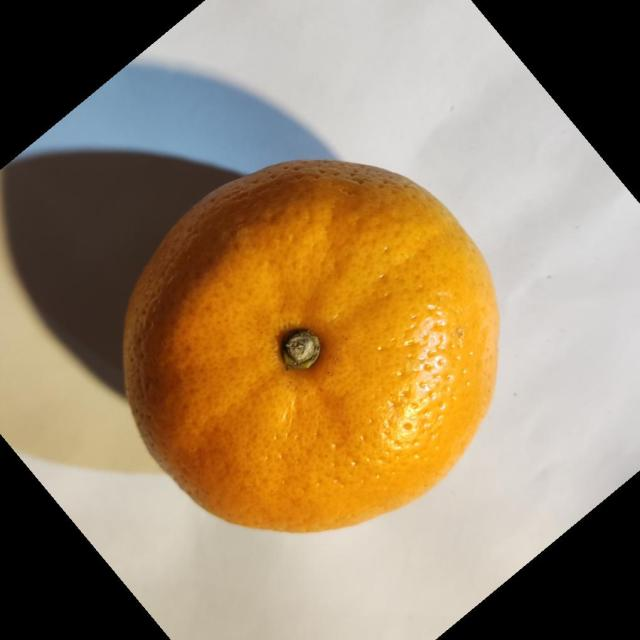fresh orange: (121, 157, 500, 533)
